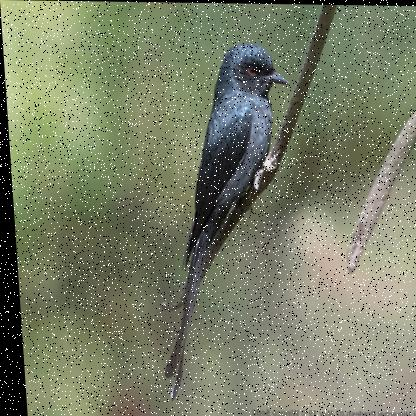Burung: (143, 43, 307, 402)
